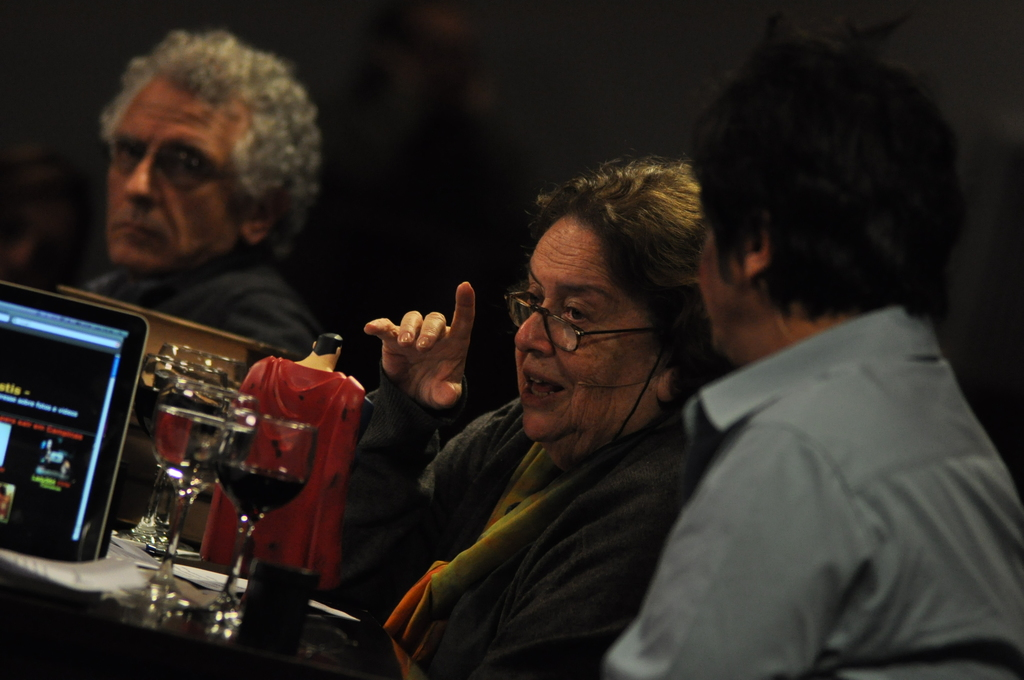Human_hand: (358, 297, 471, 408)
